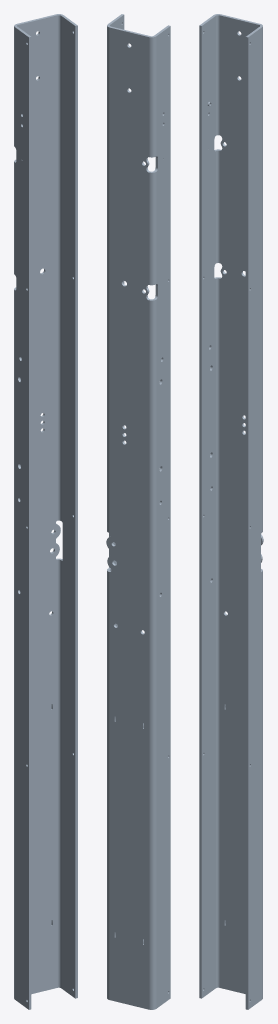
File: sheet-10001073530-rev00-folded.glb
3 views of the same model, side by side, from view 1: azimuth 30°, elevation 25°; view 2: azimuth 150°, elevation 25°; view 3: azimuth 330°, elevation 25° (orthographic).
Parts seen in each view (by area): view 1: world; view 2: world; view 3: world.
Boxes of the visible parts, bbox=[...] form: world: bbox=[14, 14, 77, 1009]; world: bbox=[106, 14, 170, 1009]; world: bbox=[199, 14, 263, 1009].
Size of the model in its own units: 100 by 1903 by 60.
